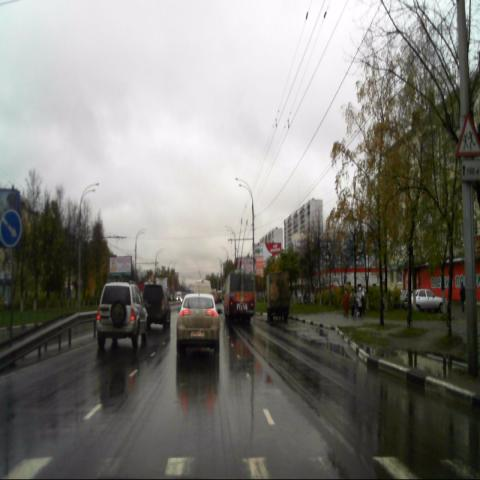1_23: (457, 112, 480, 156)
4_2_1: (0, 209, 22, 247)
